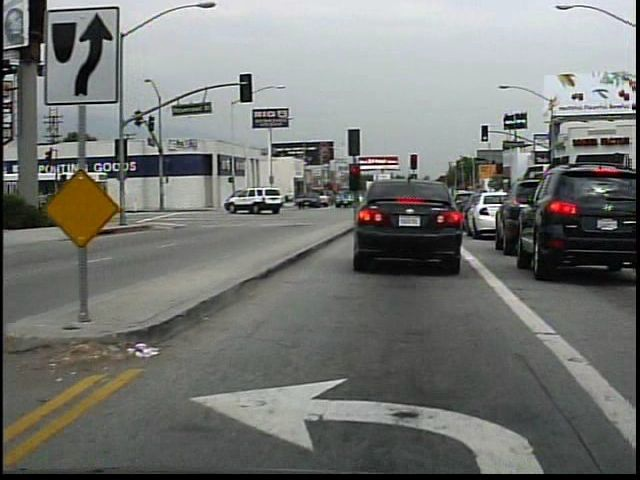person: (85, 189, 106, 225)
